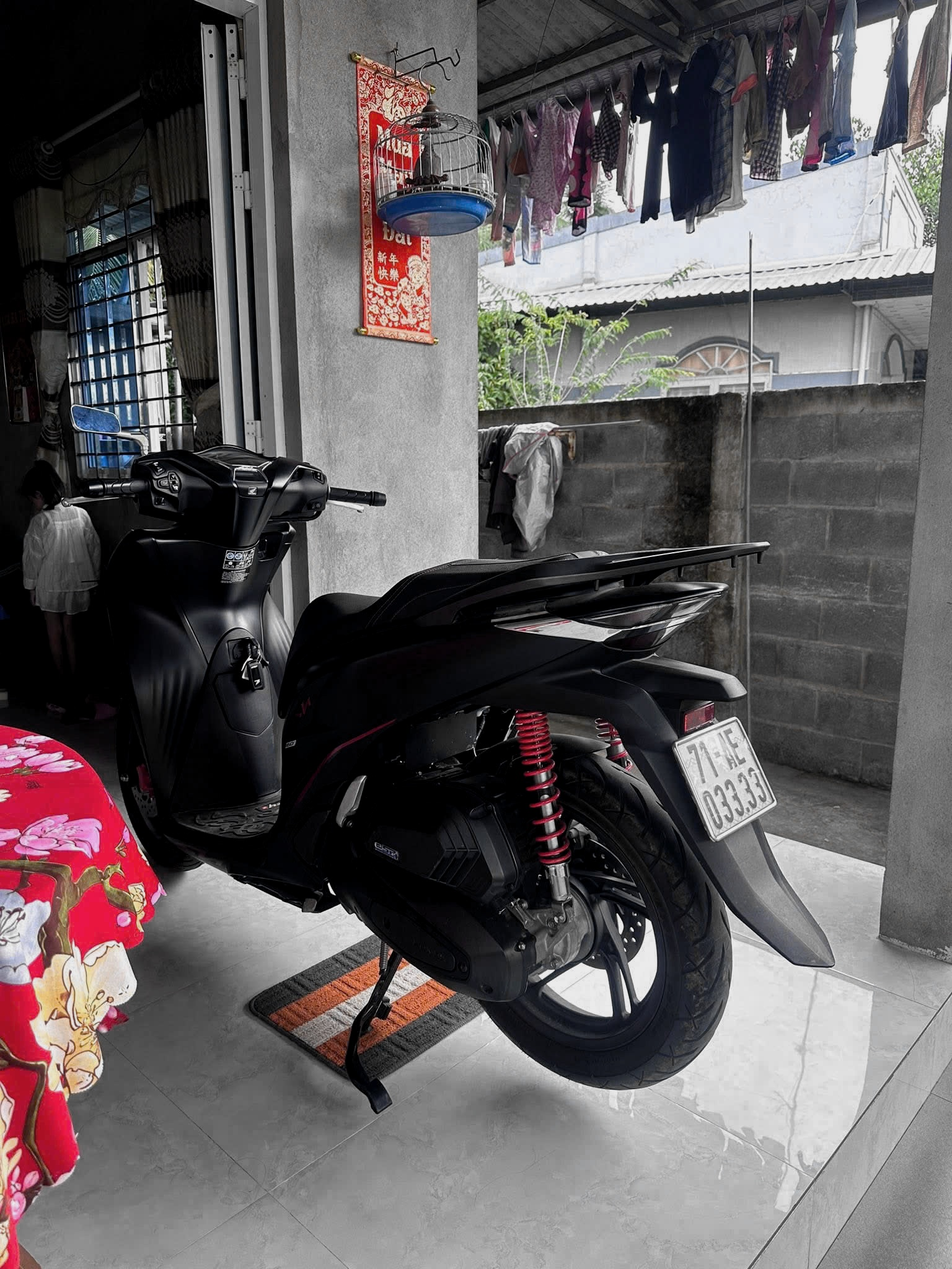Bien-so: (650, 698, 771, 836)
